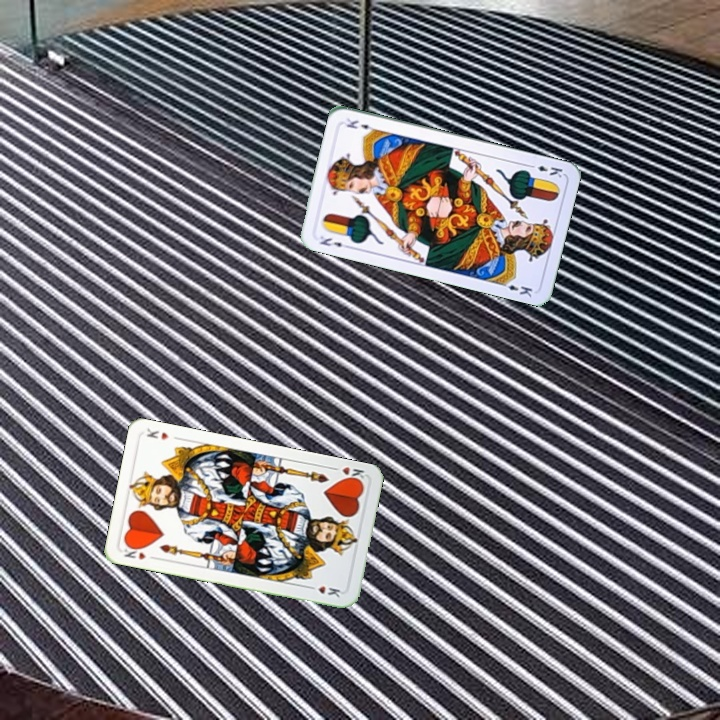EK: (525, 161, 565, 180), (316, 232, 353, 251)
HK: (327, 463, 368, 485), (120, 541, 159, 562)
